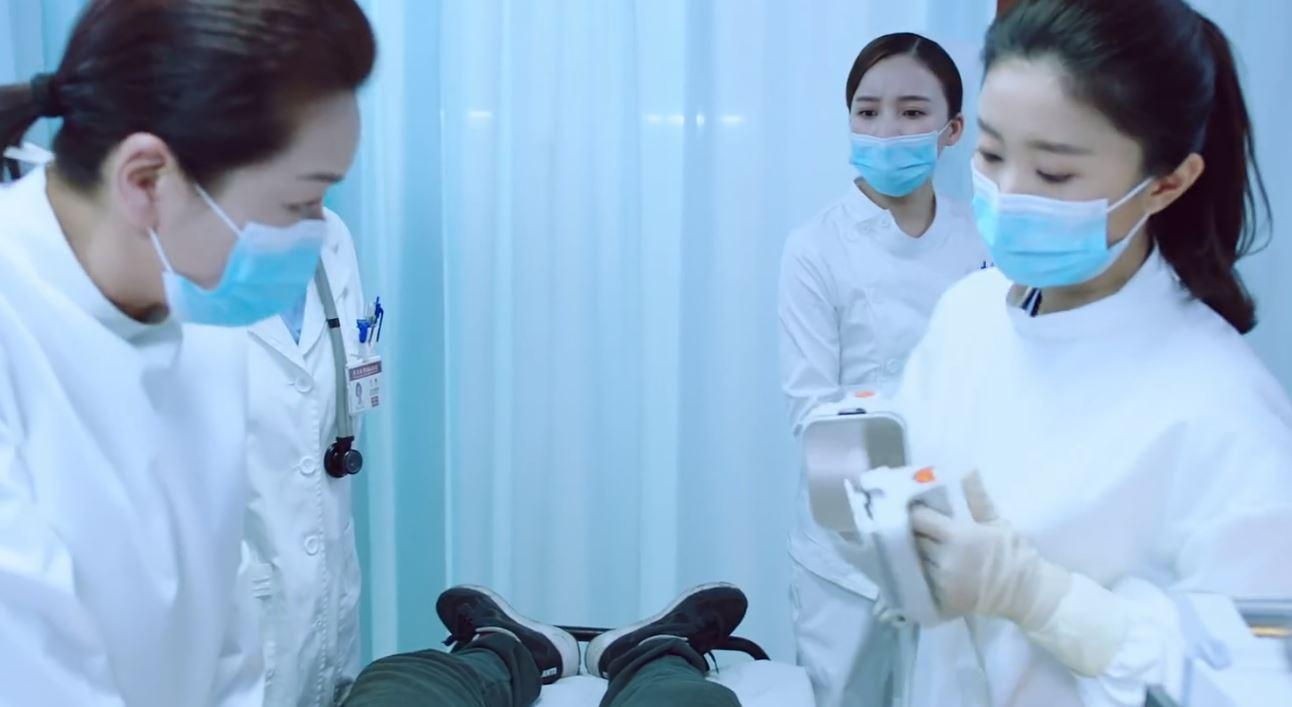OK: (178, 135, 355, 328), (972, 104, 1112, 286)
WRONG: (849, 81, 943, 197)
